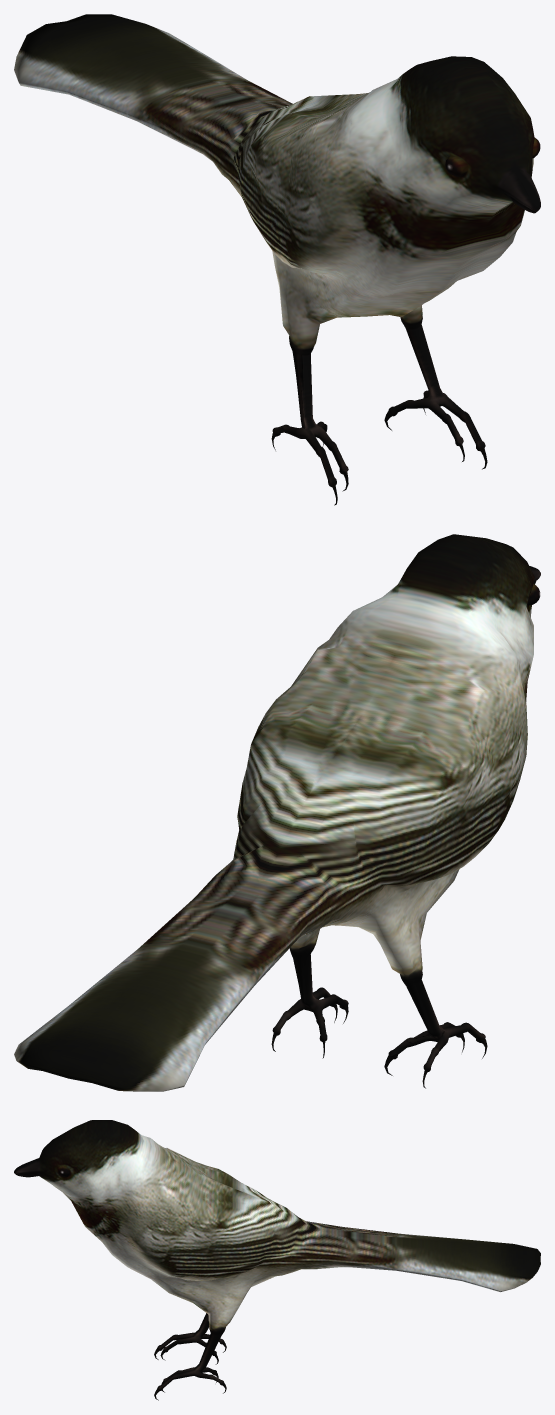
Rendered from Chickadee.fbx.
The picture shows the model from 3 angles, top to bottom: view 1: azimuth 30°, elevation 25°; view 2: azimuth 150°, elevation 25°; view 3: azimuth 270°, elevation 25°; orthographic projection. The views are drawn at different scales.
Visible parts, largest first — view 1: chickadee_; view 2: chickadee_; view 3: chickadee_.
Part boxes in pixels (box(x1,y1,x2,y2)): chickadee_: box(14, 14, 540, 505); chickadee_: box(14, 534, 540, 1091); chickadee_: box(14, 1120, 540, 1400).
Size of the model in its own units: 5.48 by 10.84 by 20.05.
Materials: 1 (1 with a texture image).
